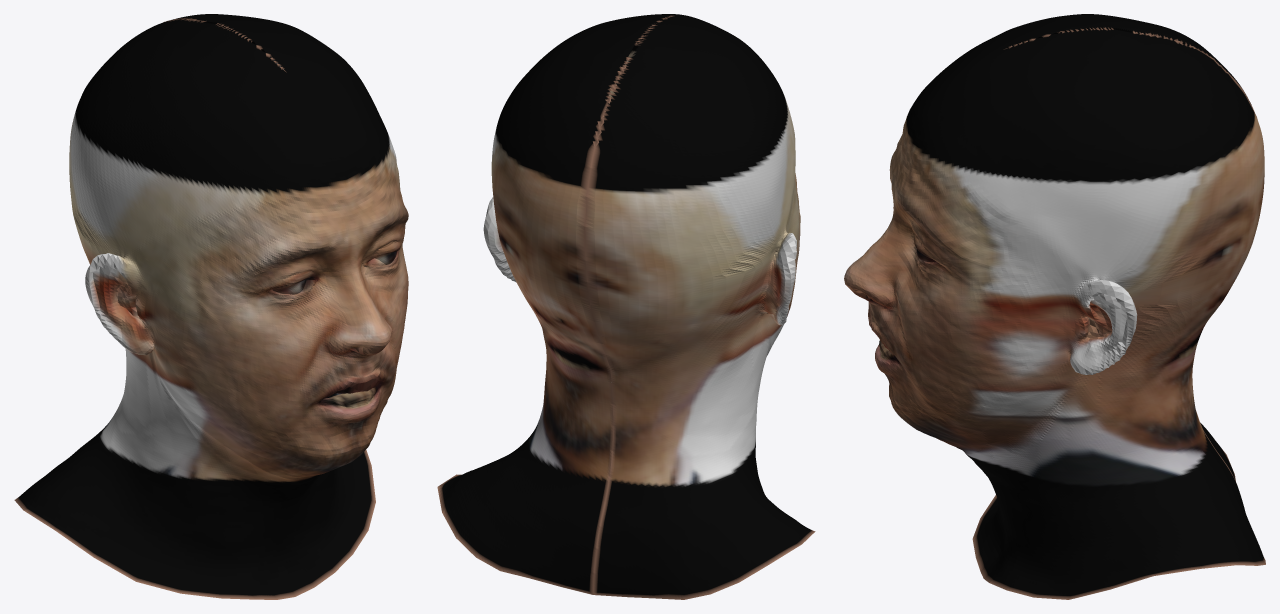
The model's file is mesh_coarse_detail.obj.
3 views of the same model, side by side, from view 1: azimuth 30°, elevation 25°; view 2: azimuth 150°, elevation 25°; view 3: azimuth 270°, elevation 25° (orthographic). The views are drawn at different scales.
Size of the model in its own units: 0.2162 by 0.3189 by 0.2267.
